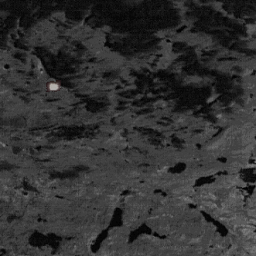Target: (46, 80, 62, 93)
